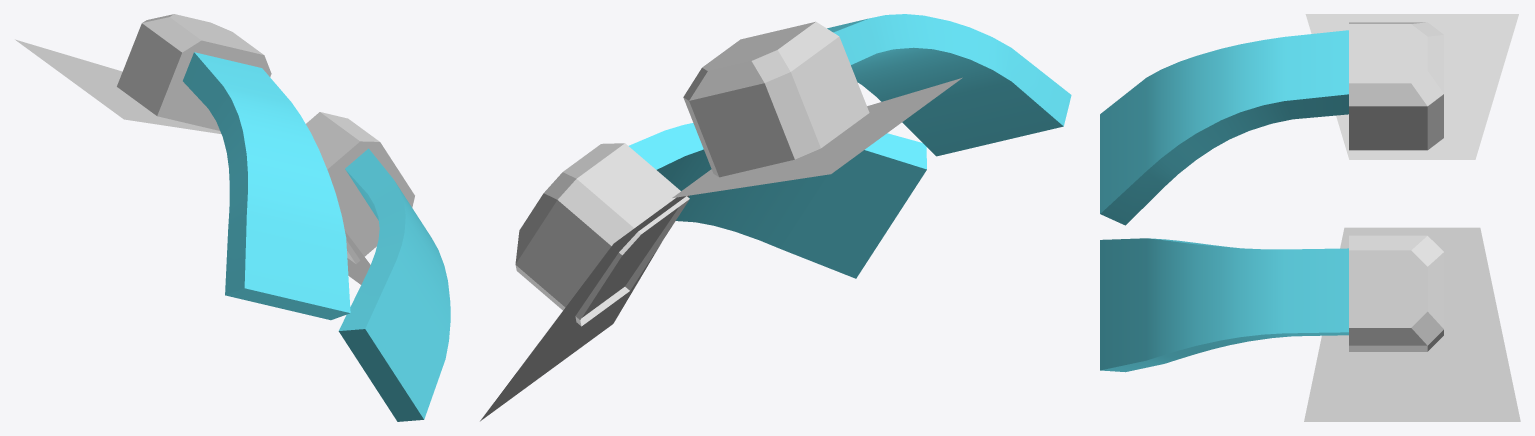
Rendered from Mod_Pauldron_L_Snail2.fbx.
3 views of the same model, side by side, from view 1: azimuth 30°, elevation 25°; view 2: azimuth 150°, elevation 25°; view 3: azimuth 270°, elevation 25° (orthographic). The views are drawn at different scales.
Parts seen in each view (by area): view 1: Mod_Pauldron_L_Snails2; view 2: Mod_Pauldron_L_Snails2; view 3: Mod_Pauldron_L_Snails2.
Boxes of the visible parts, x1,y1,x2,y2 form: Mod_Pauldron_L_Snails2: (15, 14, 450, 421); Mod_Pauldron_L_Snails2: (480, 14, 1071, 421); Mod_Pauldron_L_Snails2: (1100, 14, 1520, 421).
Size of the model in its own units: 235 by 227 by 280.
